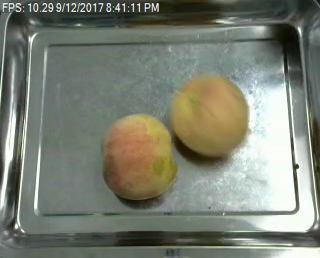Peach: (101, 112, 176, 201), (170, 73, 249, 157)
